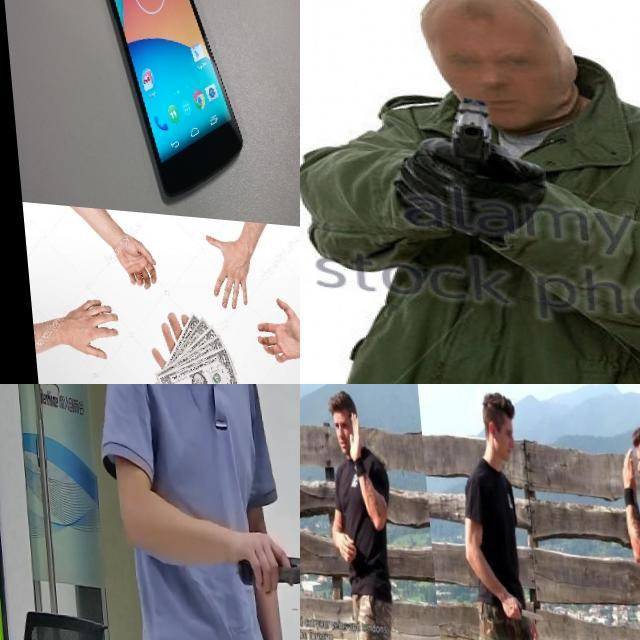-: (492, 584, 536, 619), (429, 384, 467, 411), (300, 592, 319, 640), (300, 384, 313, 424)
gun-knife-thesis - v11 Yolov5 augmented: (421, 87, 522, 221), (231, 527, 300, 597)
